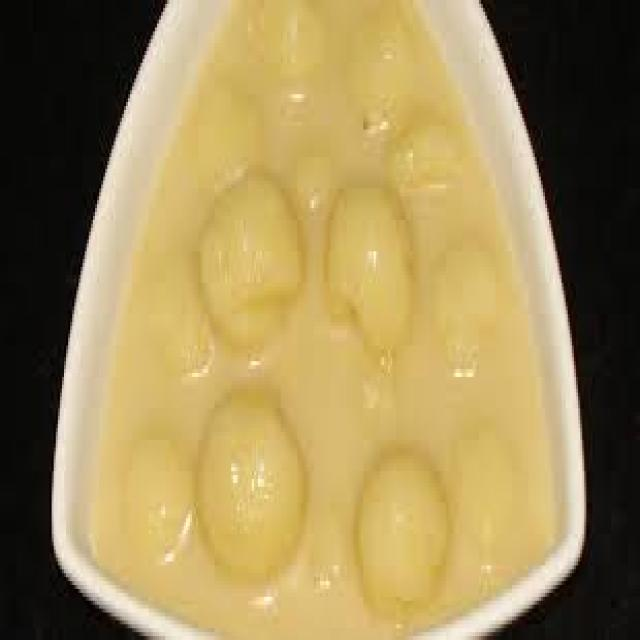paal kolukattai: (86, 0, 550, 620)
